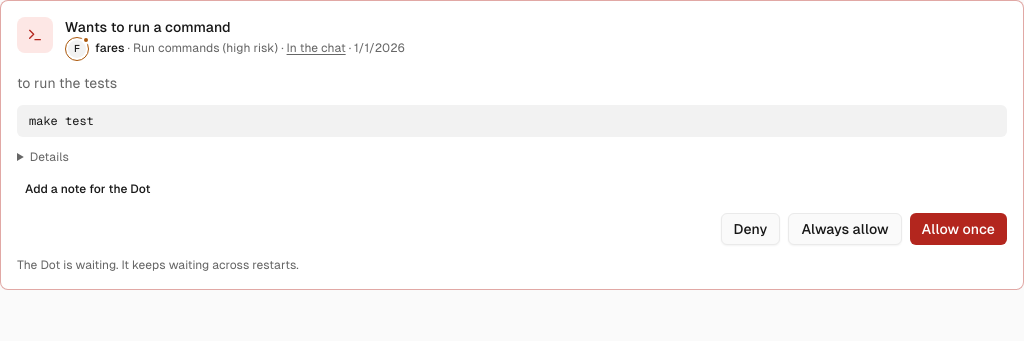
Test: the approval card › denies, with the note the person wrote, which the Dot receives and the receipt repeats
The width and height of the screenshot is (1024, 341).
Click the button "Add a note for the Dot" at x=88, y=189, box [17, 177, 159, 201]
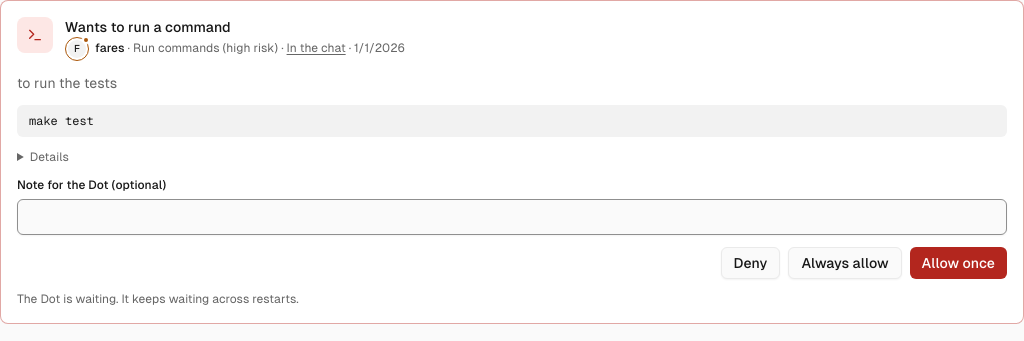
Type "  not on this machine " into the field labelled "Note for the Dot (optional)" at x=512, y=217, box [17, 199, 1007, 235]
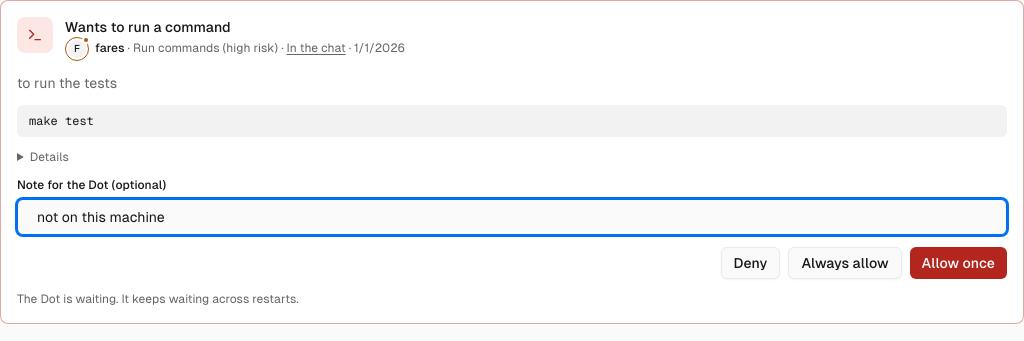
Click the button "Deny" at x=750, y=263, box [721, 247, 780, 279]
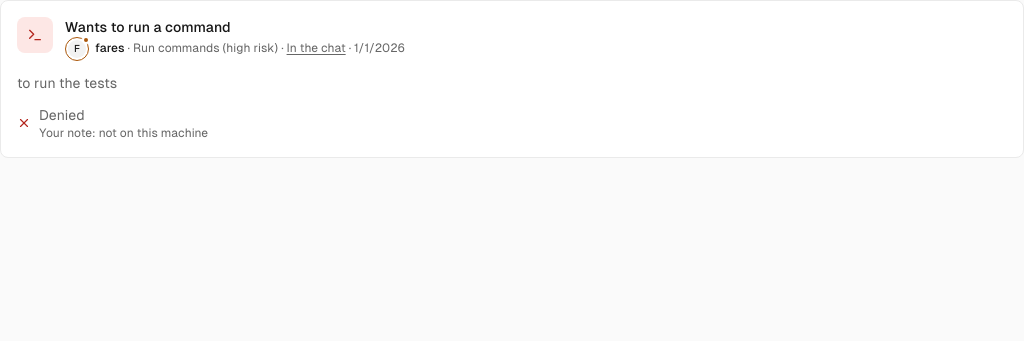
expect the message shows "Denied": met, box [39, 107, 85, 123]
expect the text "Your note: not on this machine" is shown: met, box [39, 125, 208, 141]
